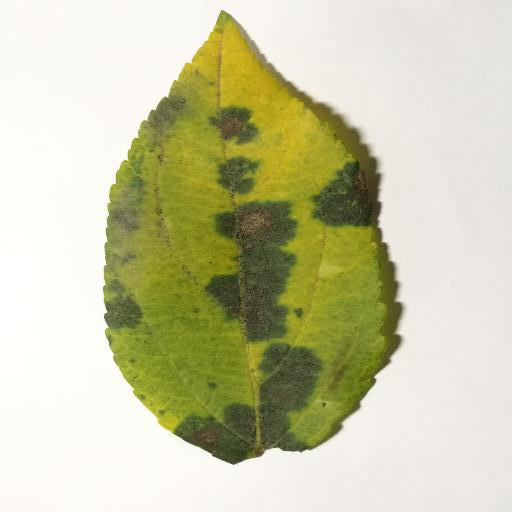Brown_Spot: (213, 118, 401, 432)
